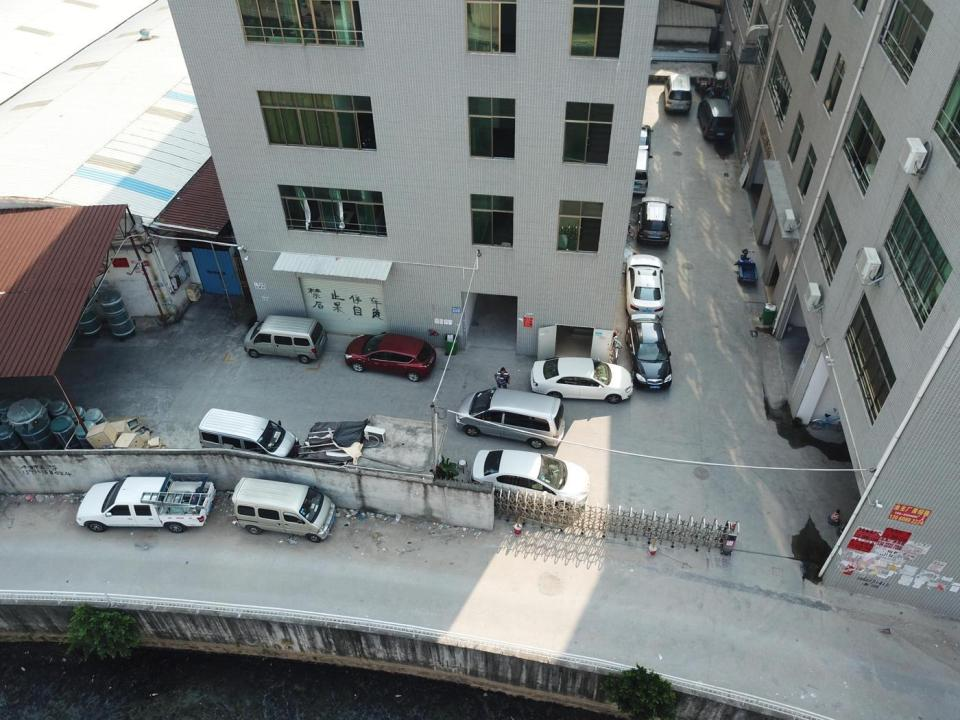car: (470, 449, 589, 512), (530, 356, 633, 404), (343, 332, 437, 381), (624, 314, 672, 390), (622, 254, 666, 319), (636, 196, 674, 245), (632, 123, 654, 157)
truck: (75, 472, 217, 533)
van: (231, 478, 337, 542), (455, 387, 565, 448), (198, 408, 300, 466), (243, 315, 328, 363), (696, 98, 734, 140), (622, 149, 653, 195), (664, 74, 693, 114)
